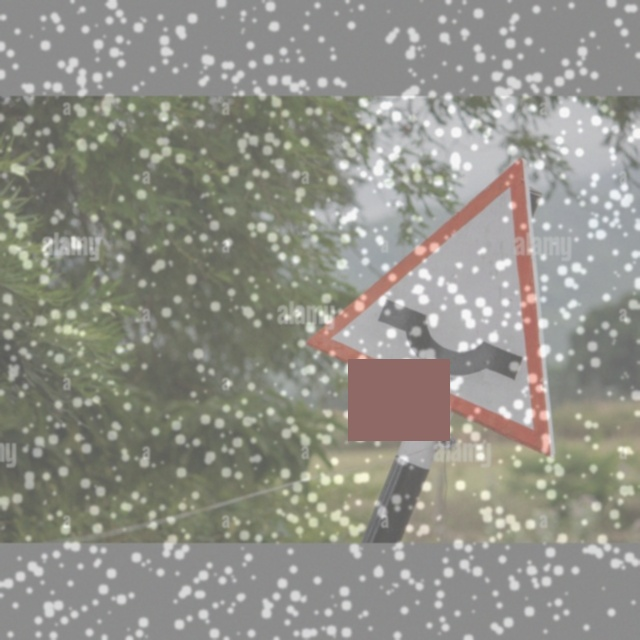Dangerous_Dip: (302, 154, 561, 455)
